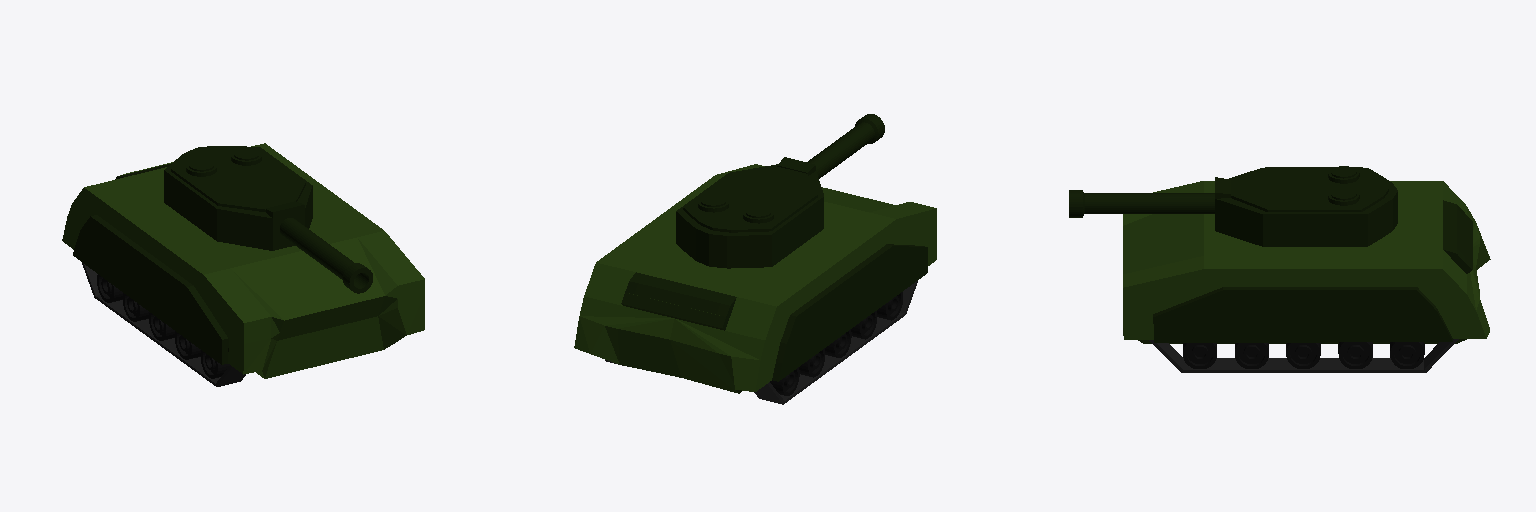
Rendered from tier1.obj.
3 views of the same model, side by side, from view 1: azimuth 30°, elevation 25°; view 2: azimuth 150°, elevation 25°; view 3: azimuth 270°, elevation 25° (orthographic).
Visible parts, largest first — view 1: Body1_Cube.079, Turret1_Cylinder.003, Main_Gun1_Cylinder.004, Road_Wheels1_Cube.080, Tracks1_Cube.078; view 2: Body1_Cube.079, Turret1_Cylinder.003, Main_Gun1_Cylinder.004, Road_Wheels1_Cube.080, Tracks1_Cube.078; view 3: Body1_Cube.079, Turret1_Cylinder.003, Road_Wheels1_Cube.080, Main_Gun1_Cylinder.004, Tracks1_Cube.078.
Part boxes in pixels (x1,y1,x2,y2): Body1_Cube.079: (62,143,424,378); Turret1_Cylinder.003: (164,146,312,250); Main_Gun1_Cylinder.004: (266,201,372,293); Road_Wheels1_Cube.080: (97,274,229,378); Tracks1_Cube.078: (82,263,394,386); Body1_Cube.079: (574,164,936,393); Turret1_Cylinder.003: (676,164,823,268); Main_Gun1_Cylinder.004: (777,114,884,178); Road_Wheels1_Cube.080: (770,292,902,395); Tracks1_Cube.078: (605,281,917,404); Body1_Cube.079: (1123,181,1490,343); Turret1_Cylinder.003: (1215,166,1397,246); Road_Wheels1_Cube.080: (1183,342,1424,368); Main_Gun1_Cylinder.004: (1069,177,1230,217); Tracks1_Cube.078: (1149,339,1458,372).
Bounding box in the file's own units: 3.86 × 2.8 × 7.25.